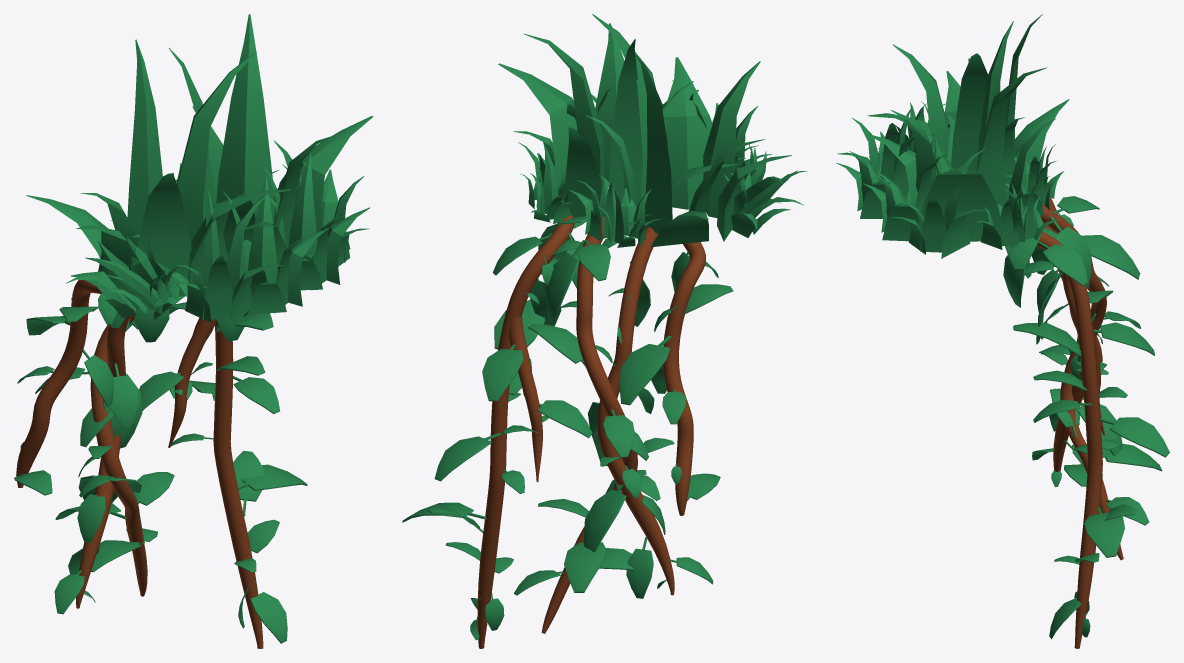
The model's file is grass&vines-optimized.glb.
The picture shows the model from 3 angles, left to right: view 1: azimuth 30°, elevation 25°; view 2: azimuth 150°, elevation 25°; view 3: azimuth 270°, elevation 25°; orthographic projection. The views are drawn at different scales.
Visible parts, largest first — view 1: BezierCurve; view 2: BezierCurve; view 3: BezierCurve.
Boxes of the visible parts, bbox=[...] form: BezierCurve: bbox=[14, 14, 373, 648]; BezierCurve: bbox=[402, 14, 807, 648]; BezierCurve: bbox=[836, 14, 1169, 648].
Size of the model in its own units: 10.26 by 19.31 by 10.2.
